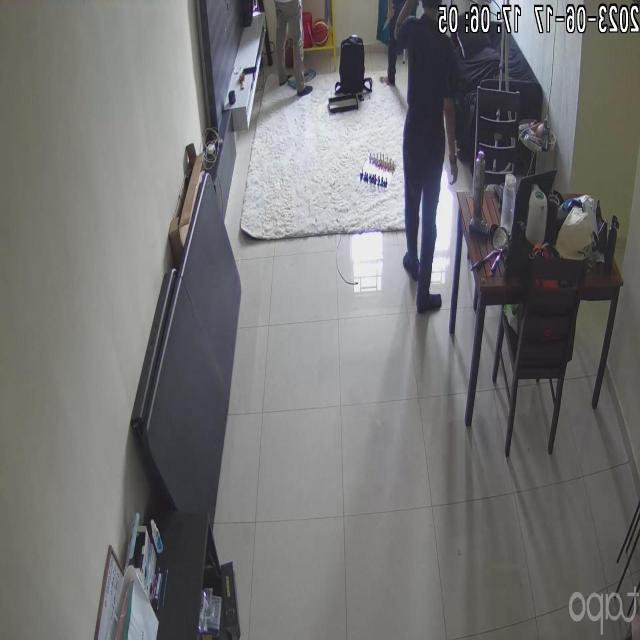Knife: (479, 251, 502, 279)
